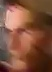kevin: (3, 5, 45, 61)
